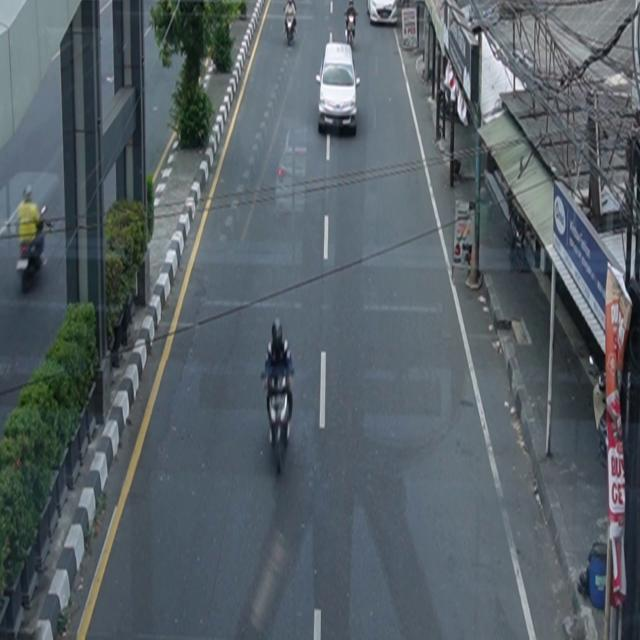car: (316, 42, 362, 136), (367, 1, 398, 26)
